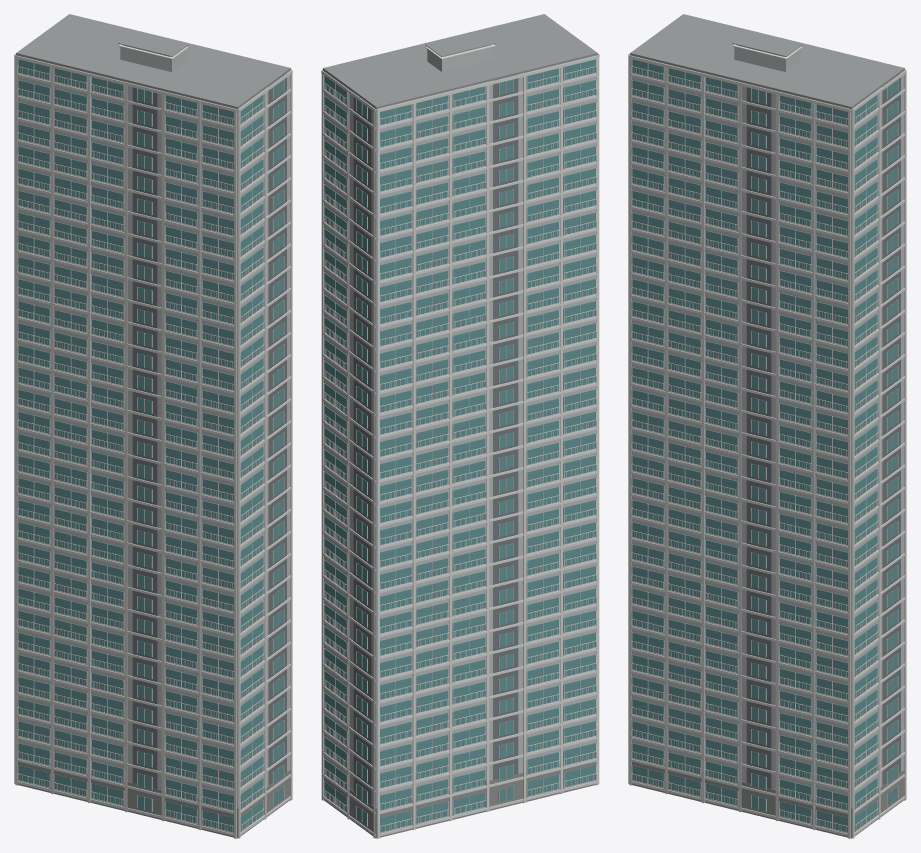
The model's file is bespoke-jamsil-ricenz-255.glb.
3 views of the same model, side by side, from view 1: azimuth 90°, elevation 25°; view 2: azimuth 150°, elevation 25°; view 3: azimuth 270°, elevation 25° (orthographic).
Visible parts, largest first — view 1: Ricenz255_editable_Ricenz255_turquoise_balcony_glazing, Ricenz255_editable_Ricenz255_light_grey_solid_wall, Ricenz255_white_exact_chunk_2, Ricenz255_white_exact_chunk_1, Ricenz255_white_exact_chunk_0, Ricenz255_editable_Ricenz255_narrow_charcoal_service_strips, Ricenz255_editable_Ricenz255_modest_grey_flat_roof_caps, Ricenz255_white_exact_chunk_3, Ricenz255_editable_Ricenz255_muted_ground_wall, Ricenz255_white_exact_chunk_6; view 2: Ricenz255_editable_Ricenz255_turquoise_balcony_glazing, Ricenz255_editable_Ricenz255_light_grey_solid_wall, Ricenz255_white_exact_chunk_2, Ricenz255_white_exact_chunk_1, Ricenz255_white_exact_chunk_0, Ricenz255_editable_Ricenz255_narrow_charcoal_service_strips, Ricenz255_white_exact_chunk_6, Ricenz255_editable_Ricenz255_modest_grey_flat_roof_caps, Ricenz255_white_exact_chunk_5, Ricenz255_editable_Ricenz255_muted_ground_wall, Ricenz255_white_exact_chunk_3; view 3: Ricenz255_editable_Ricenz255_turquoise_balcony_glazing, Ricenz255_editable_Ricenz255_light_grey_solid_wall, Ricenz255_white_exact_chunk_5, Ricenz255_white_exact_chunk_4, Ricenz255_white_exact_chunk_3, Ricenz255_editable_Ricenz255_narrow_charcoal_service_strips, Ricenz255_white_exact_chunk_6, Ricenz255_editable_Ricenz255_modest_grey_flat_roof_caps, Ricenz255_editable_Ricenz255_muted_ground_wall.
Part boxes in pixels (box(x1,y1,x2,y2)): Ricenz255_editable_Ricenz255_turquoise_balcony_glazing: box(18, 59, 283, 832); Ricenz255_editable_Ricenz255_light_grey_solid_wall: box(16, 45, 290, 807); Ricenz255_white_exact_chunk_2: box(15, 55, 290, 838); Ricenz255_white_exact_chunk_1: box(90, 77, 233, 836); Ricenz255_white_exact_chunk_0: box(17, 59, 124, 809); Ricenz255_editable_Ricenz255_narrow_charcoal_service_strips: box(132, 73, 286, 788); Ricenz255_editable_Ricenz255_modest_grey_flat_roof_caps: box(16, 14, 290, 108); Ricenz255_white_exact_chunk_3: box(238, 70, 292, 838); Ricenz255_editable_Ricenz255_muted_ground_wall: box(18, 758, 290, 838); Ricenz255_white_exact_chunk_6: box(14, 44, 188, 783); Ricenz255_editable_Ricenz255_turquoise_balcony_glazing: box(324, 59, 595, 832); Ricenz255_editable_Ricenz255_light_grey_solid_wall: box(323, 45, 597, 807); Ricenz255_white_exact_chunk_2: box(377, 55, 598, 838); Ricenz255_white_exact_chunk_1: box(452, 68, 596, 809); Ricenz255_white_exact_chunk_0: box(380, 95, 486, 836); Ricenz255_editable_Ricenz255_narrow_charcoal_service_strips: box(353, 74, 518, 804); Ricenz255_white_exact_chunk_6: box(321, 44, 495, 838); Ricenz255_editable_Ricenz255_modest_grey_flat_roof_caps: box(323, 14, 597, 108); Ricenz255_white_exact_chunk_5: box(322, 69, 347, 815); Ricenz255_editable_Ricenz255_muted_ground_wall: box(323, 758, 595, 838); Ricenz255_white_exact_chunk_3: box(598, 53, 599, 783); Ricenz255_editable_Ricenz255_turquoise_balcony_glazing: box(632, 59, 897, 832); Ricenz255_editable_Ricenz255_light_grey_solid_wall: box(630, 45, 904, 807); Ricenz255_white_exact_chunk_5: box(629, 55, 878, 838); Ricenz255_white_exact_chunk_4: box(704, 77, 812, 827); Ricenz255_white_exact_chunk_3: box(628, 53, 738, 809); Ricenz255_editable_Ricenz255_narrow_charcoal_service_strips: box(746, 73, 900, 788); Ricenz255_white_exact_chunk_6: box(732, 44, 906, 838); Ricenz255_editable_Ricenz255_modest_grey_flat_roof_caps: box(630, 14, 904, 108); Ricenz255_editable_Ricenz255_muted_ground_wall: box(632, 758, 904, 838).
Size of the model in its own units: 26.93 by 99.51 by 33.52.
